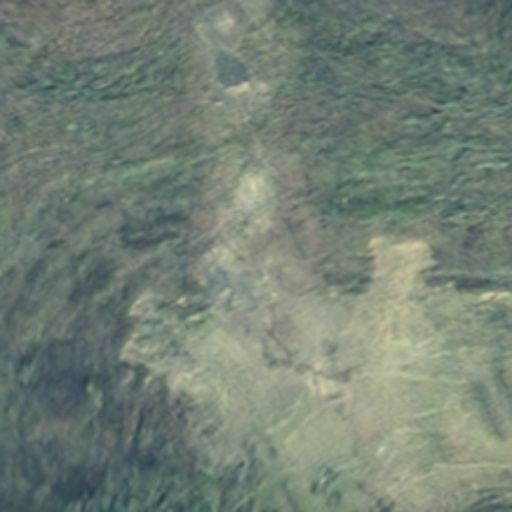landslide: (352, 232, 433, 366)
